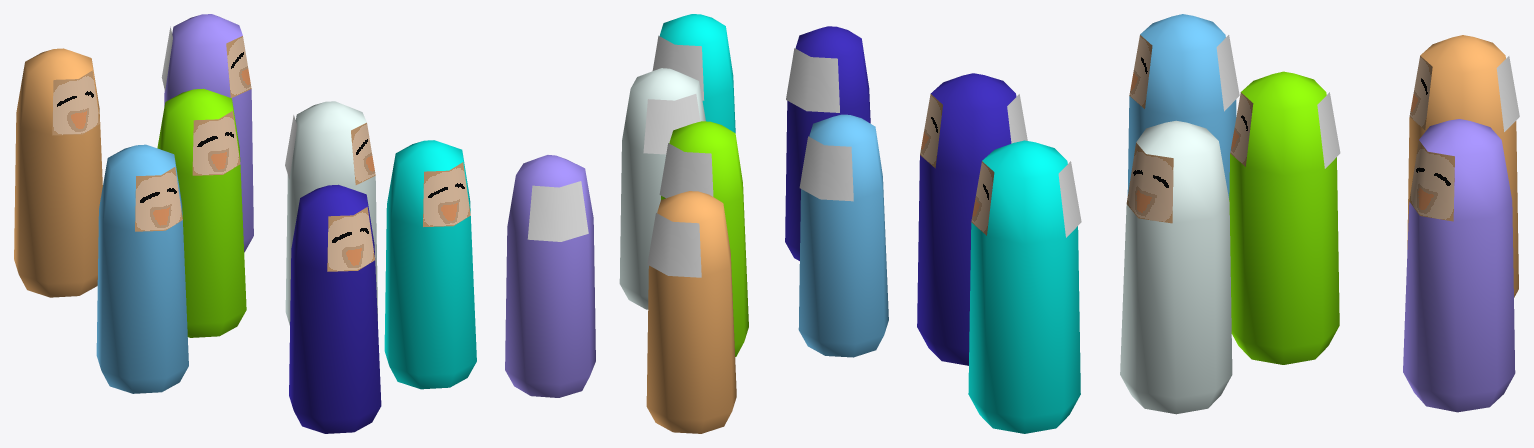
Rendered from M_MOB2.glb.
3 views of the same model, side by side, from view 1: azimuth 30°, elevation 25°; view 2: azimuth 150°, elevation 25°; view 3: azimuth 270°, elevation 25° (orthographic). The views are drawn at different scales.
Parts seen in each view (by area): view 1: ROT; view 2: ROT; view 3: ROT.
Boxes of the visible parts, left/top/right/bottom form: ROT: left=14, top=14, right=476, bottom=433; ROT: left=505, top=14, right=888, bottom=433; ROT: left=917, top=14, right=1519, bottom=433.
Bounding box in the file's own units: 4.69 × 3.4 × 6.87.
Materials: 3 (3 with a texture image).
